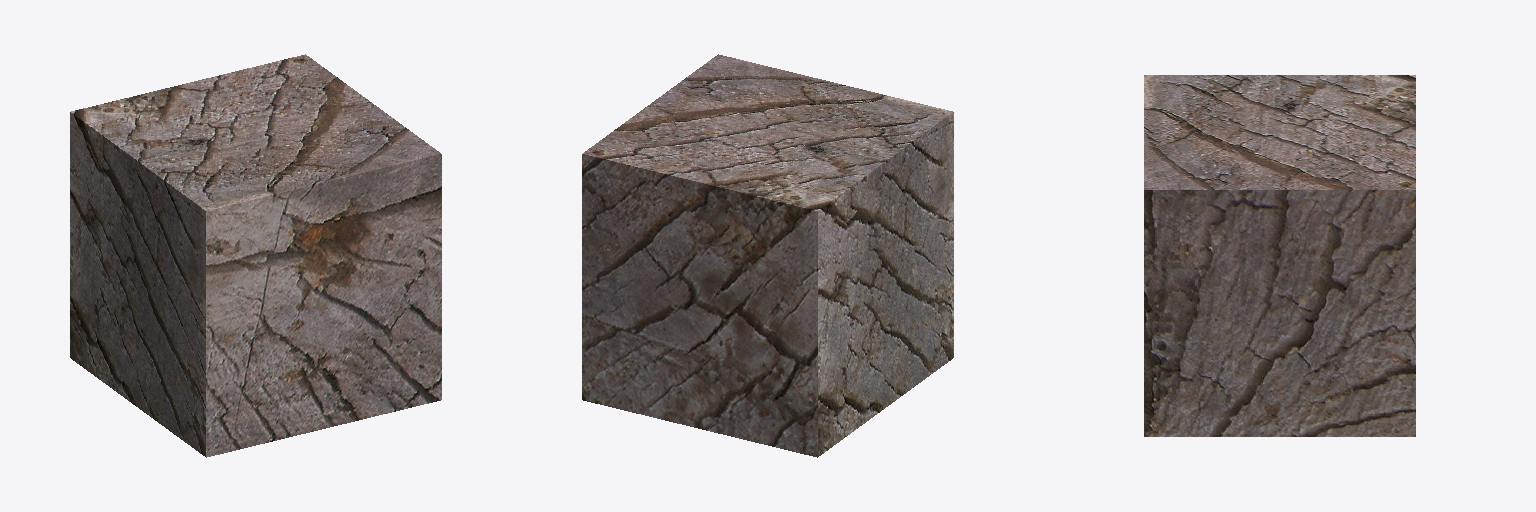
The picture shows the model from 3 angles: view 1: azimuth 30°, elevation 25°; view 2: azimuth 150°, elevation 25°; view 3: azimuth 270°, elevation 25°; orthographic projection.
Visible parts, largest first — view 1: Cube; view 2: Cube; view 3: Cube.
Part boxes in pixels (bbox=[...]): Cube: bbox=[70, 54, 441, 457]; Cube: bbox=[582, 54, 953, 457]; Cube: bbox=[1144, 75, 1415, 436].
Bounding box in the file's own units: 1 × 1 × 1.
Materials: 1 (1 with a texture image).